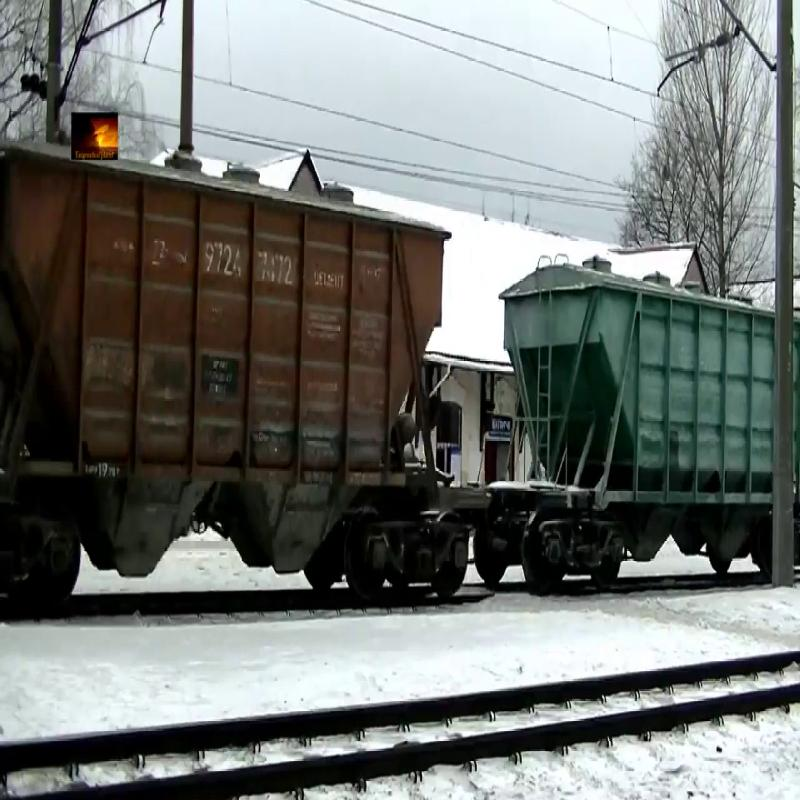train: (1, 161, 476, 597), (491, 251, 773, 590)
